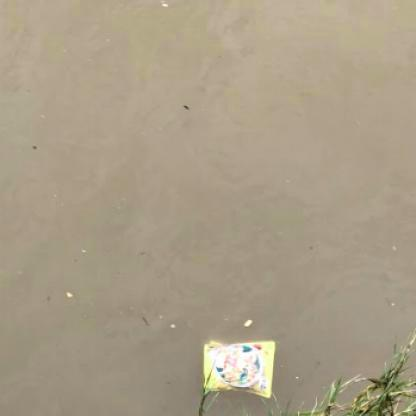Trash: (201, 340, 278, 400)
